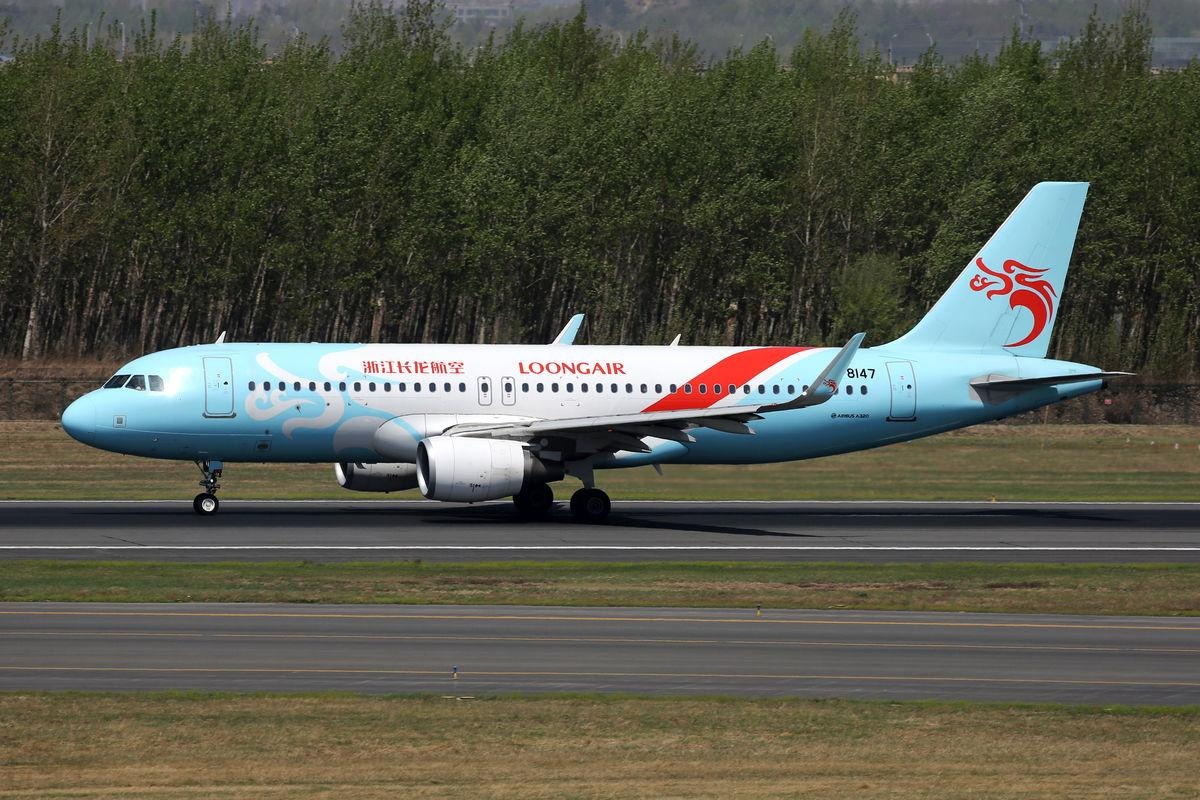airplane: (52, 179, 1131, 533)
